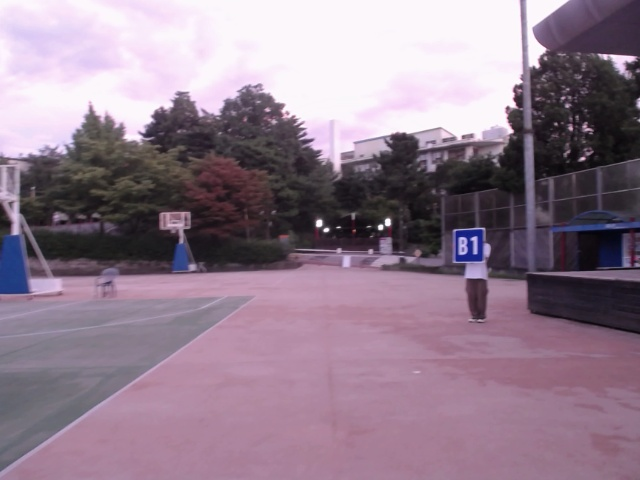delivery_b1: (452, 228, 485, 263)
